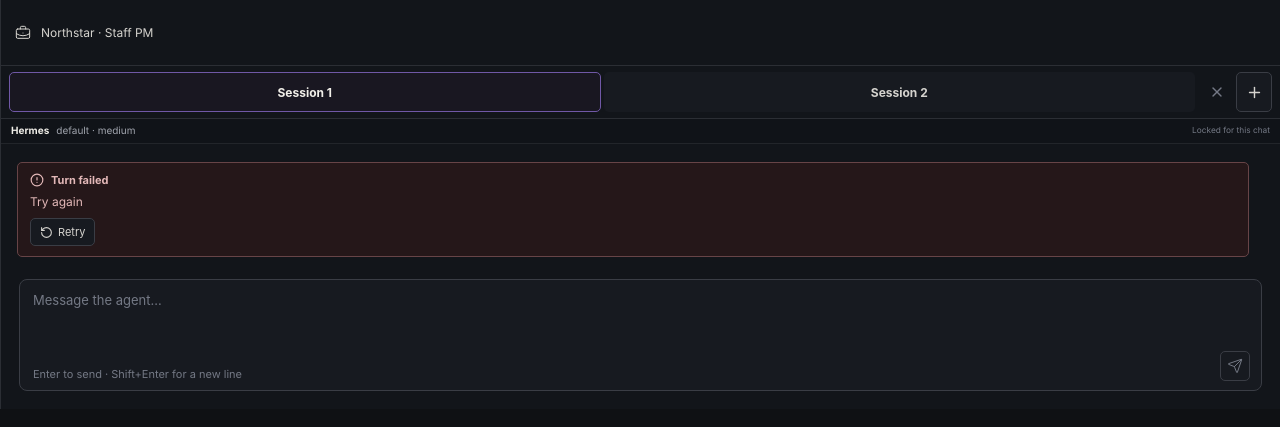
close stays disabled across the pending retry response gap
Click the button with aria-label "Retry turn". click: (63, 232)
box: 30,218 -> 95,246
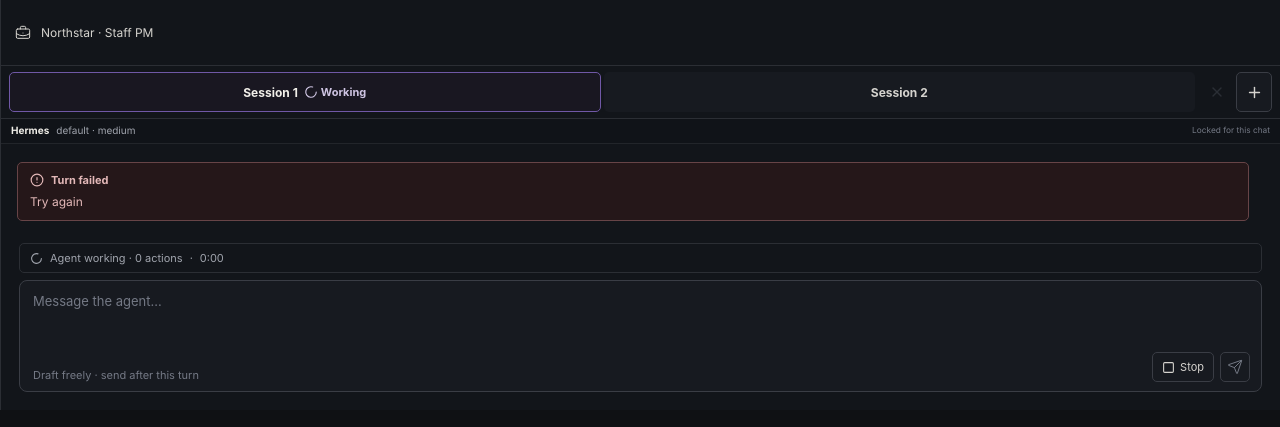
Expected: the button named "Close Session 1" is disabled, 1201,72 -> 1232,112
